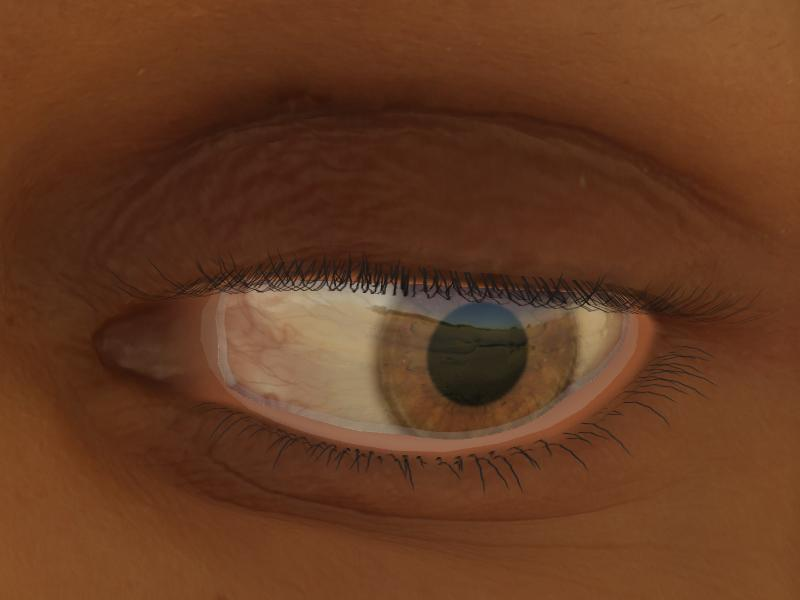eye: (373, 274, 584, 435)
